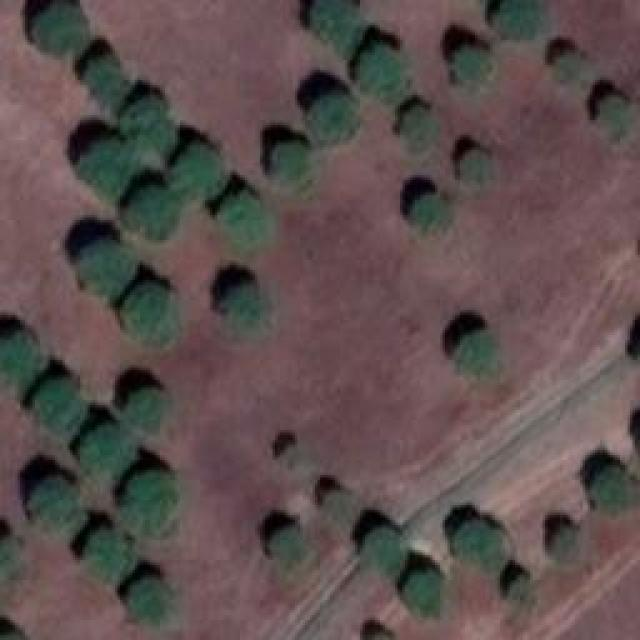Tree: (125, 467, 180, 535), (128, 278, 178, 351), (215, 278, 275, 338), (77, 238, 135, 298), (78, 420, 133, 478), (75, 140, 135, 193), (218, 190, 268, 253), (118, 188, 178, 238), (355, 525, 410, 578), (308, 92, 358, 150), (125, 92, 175, 150), (38, 3, 91, 56), (587, 464, 640, 517), (455, 518, 508, 571), (33, 475, 86, 528), (358, 45, 408, 100), (173, 143, 223, 198), (313, 0, 366, 48), (83, 528, 133, 578), (0, 335, 45, 390), (487, 0, 544, 42), (38, 380, 83, 433), (262, 140, 310, 188), (400, 570, 448, 618), (128, 387, 173, 435), (90, 53, 133, 103), (445, 43, 490, 88), (265, 528, 308, 573), (400, 107, 440, 155), (455, 333, 498, 376), (410, 193, 450, 233), (458, 148, 498, 188), (130, 578, 168, 618), (598, 95, 631, 140), (550, 525, 583, 565), (318, 490, 353, 525), (507, 575, 535, 615), (555, 48, 585, 83), (0, 535, 20, 575), (280, 445, 305, 473)
